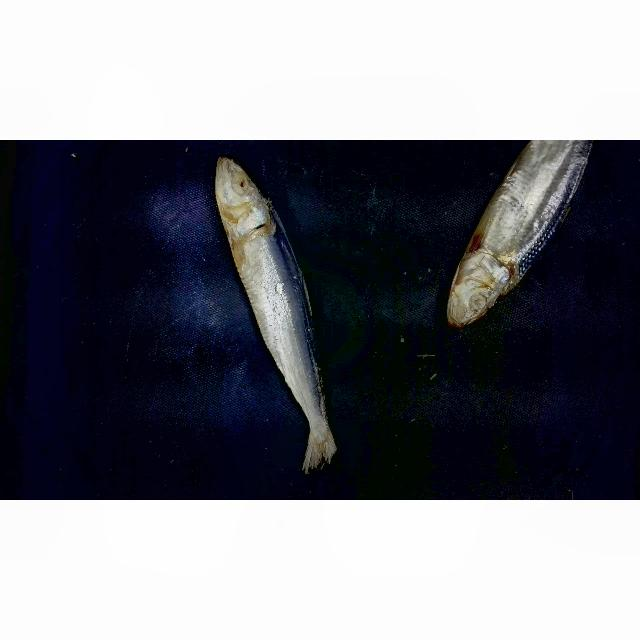Grade_A_Body: (224, 239, 345, 386), (492, 141, 586, 257)
Grade_A_Head: (197, 150, 289, 226), (442, 252, 522, 337)
